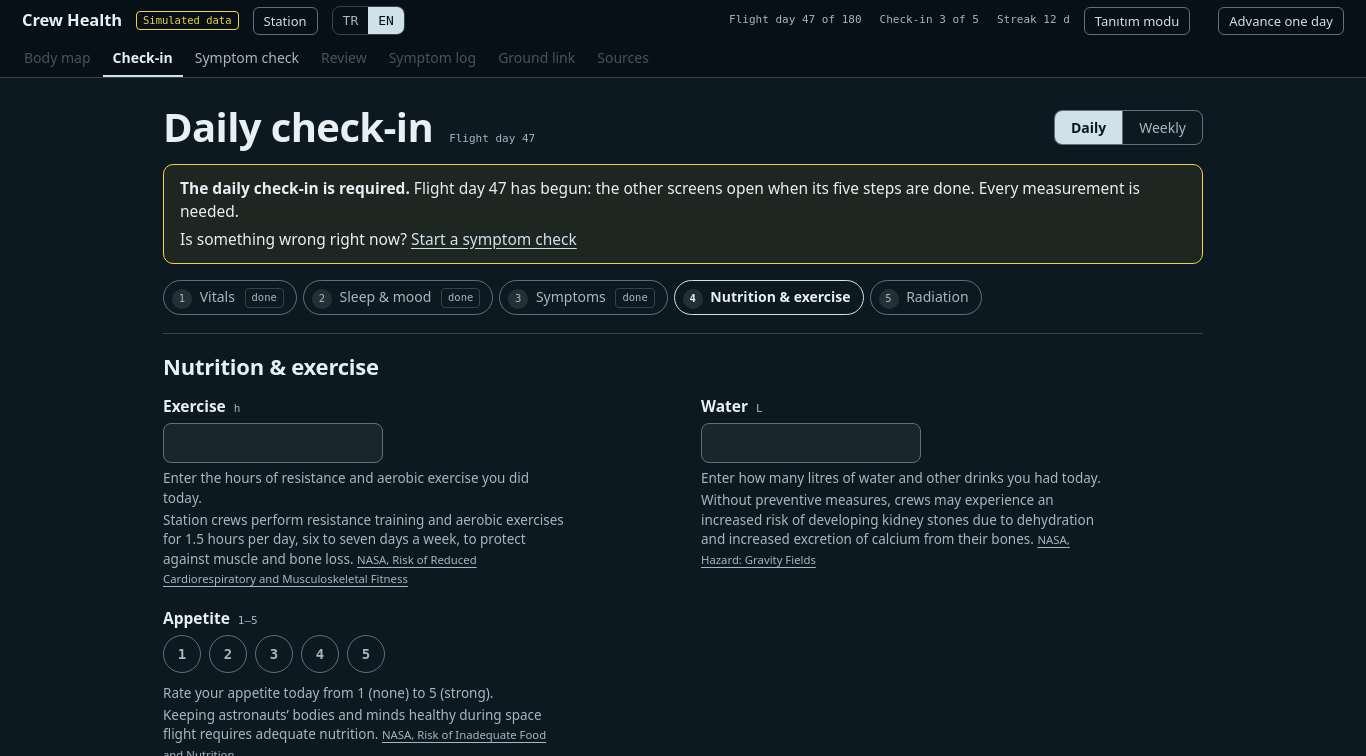
Test: while locked, the symptom check and the mission screen stay open
Click the button "Start a symptom check": coordinates (494, 239) top-left (411, 228), bottom-right (577, 251)
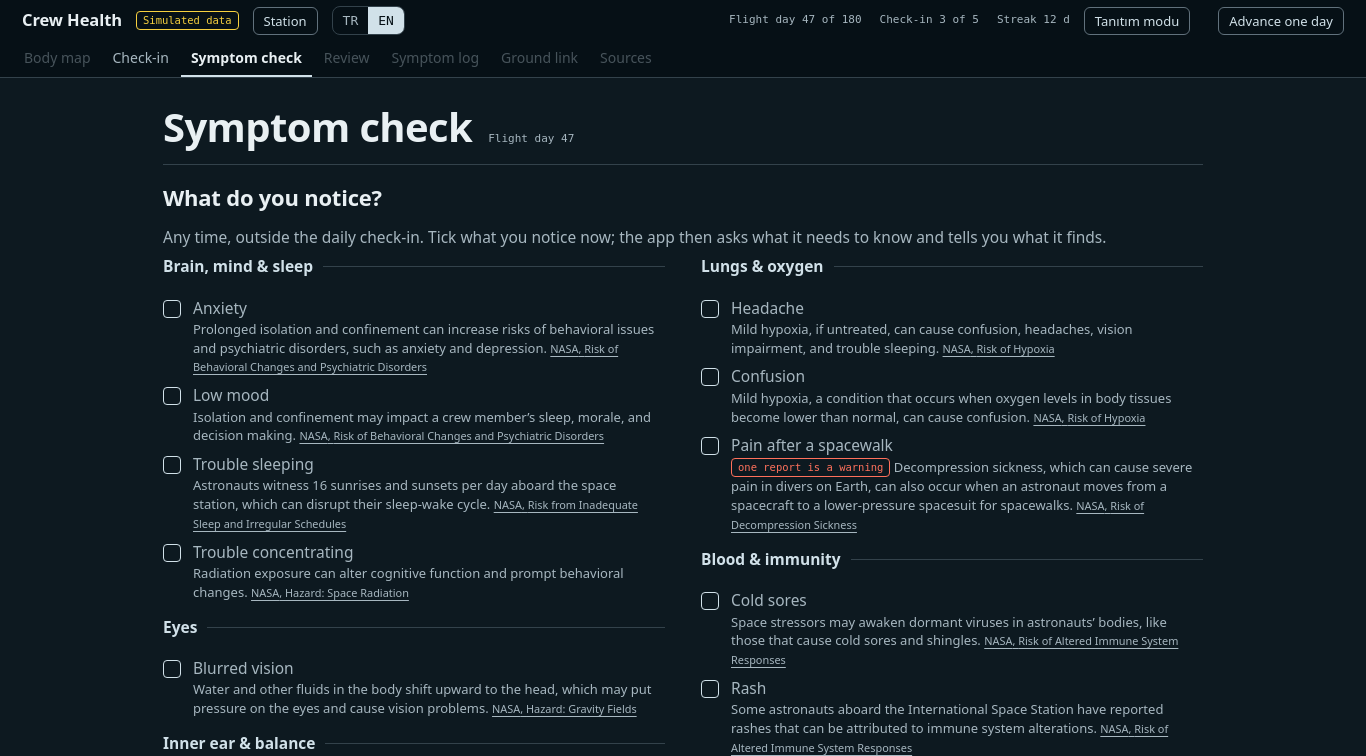
Expected: the heading "Symptom check" is shown, top-left (163, 106), bottom-right (472, 148)
Click the button with aria-label "Mission: Station": coordinates (285, 20) top-left (252, 6), bottom-right (318, 34)
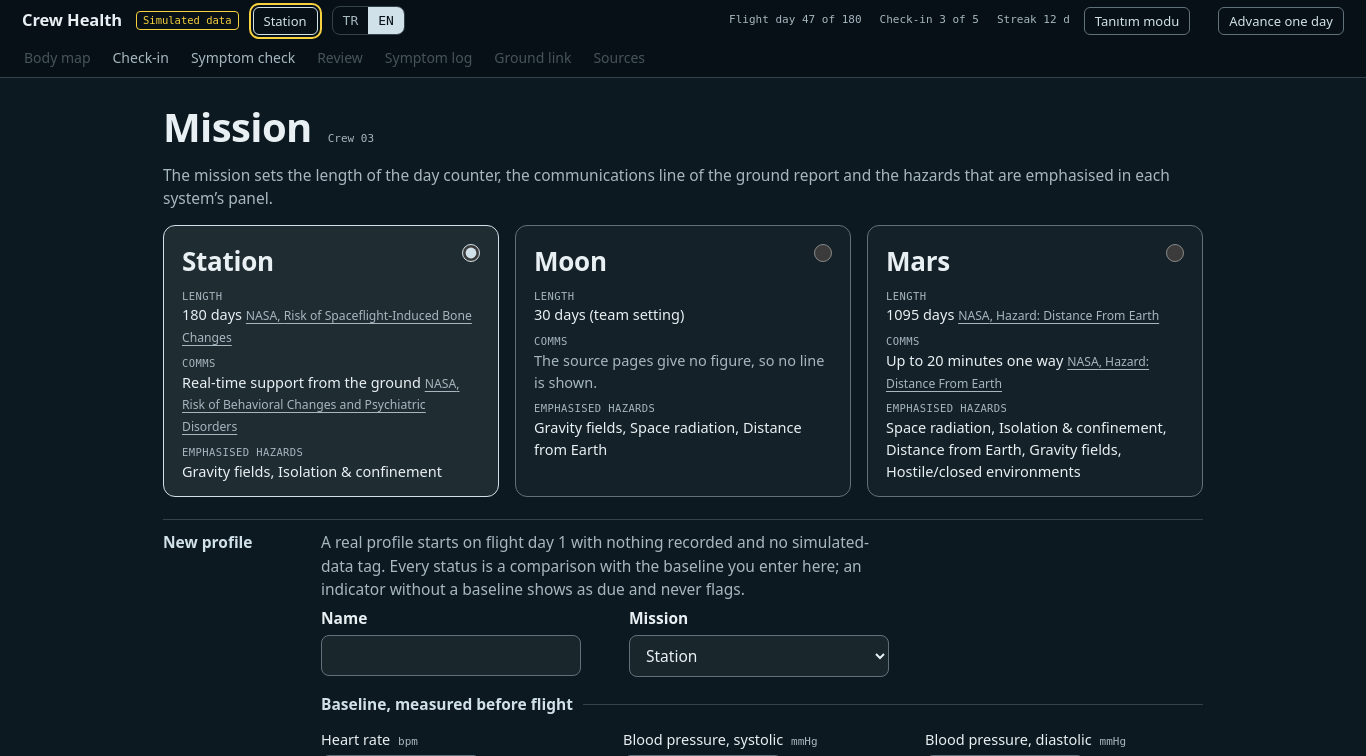
Expected: the heading "Mission" is shown, top-left (163, 106), bottom-right (312, 148)
